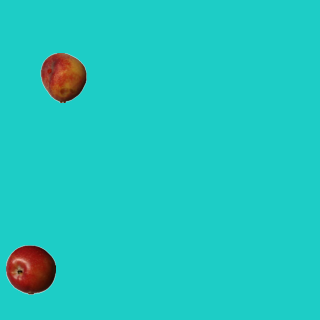Apple Braeburn: (5, 244, 55, 294)
Peach: (38, 52, 88, 102)
